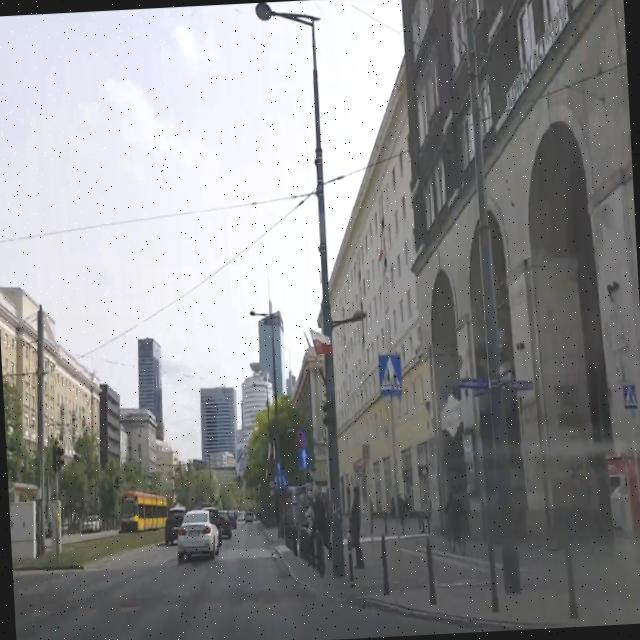Przejscie dla pieszych: (622, 382, 638, 410)
Zakaz zatrzymywania sie: (296, 426, 308, 446)
